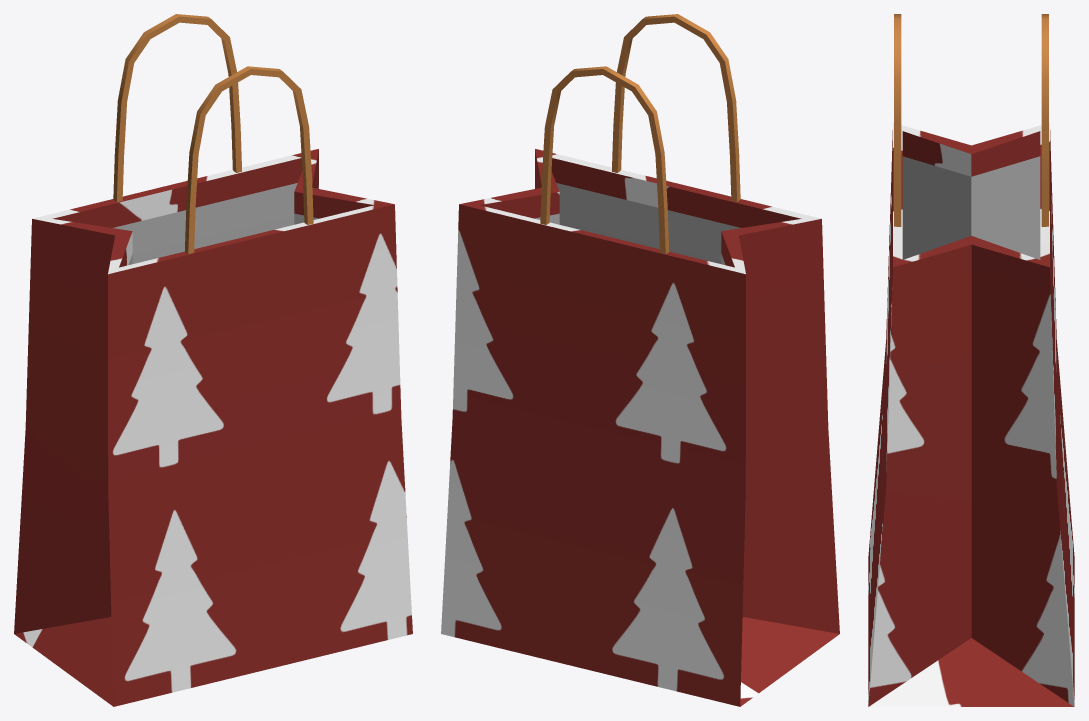
Rendered from PresentBag_01.fbx.
The picture shows the model from 3 angles, left to right: view 1: azimuth 30°, elevation 25°; view 2: azimuth 150°, elevation 25°; view 3: azimuth 270°, elevation 25°; orthographic projection. The views are drawn at different scales.
Parts seen in each view (by area): view 1: PresentBag_01; view 2: PresentBag_01; view 3: PresentBag_01.
Boxes of the visible parts, x1=… form: PresentBag_01: x1=14, y1=14, x2=412, y2=706; PresentBag_01: x1=441, y1=14, x2=839, y2=706; PresentBag_01: x1=868, y1=14, x2=1074, y2=706.
Size of the model in its own units: 0.3845 by 0.7274 by 0.2219.
